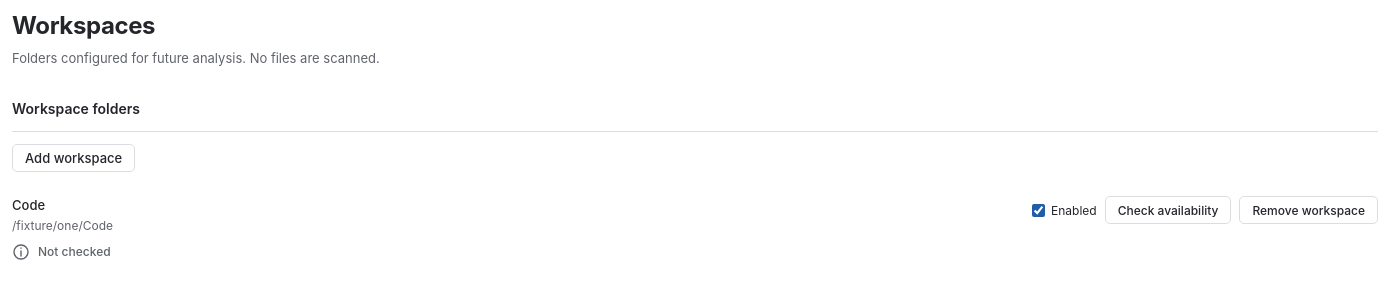
Test: Workspaces view › presents a missing root as a warning rather than a successful availability result
Click the button "Check availability" at point(1168, 210), box [1105, 196, 1232, 224]
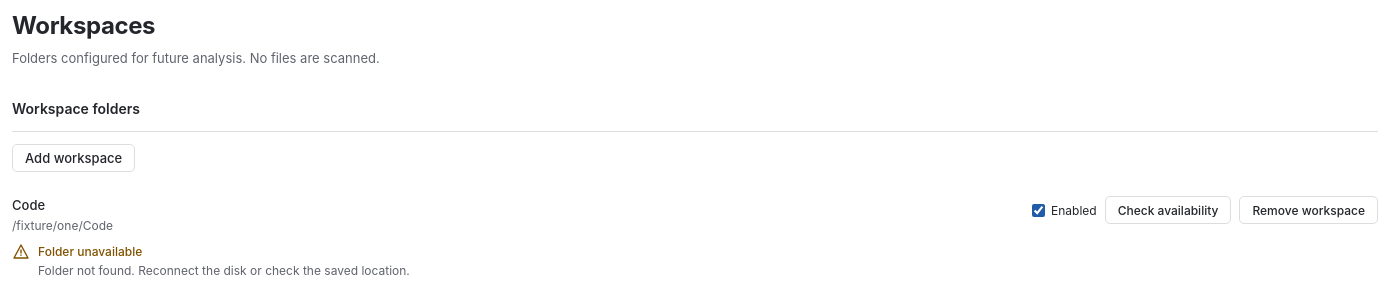
Expected: the text "Folder unavailable" shows "Folder not found. Reconnect the disk or check the saved location.", [38, 263, 410, 278]
